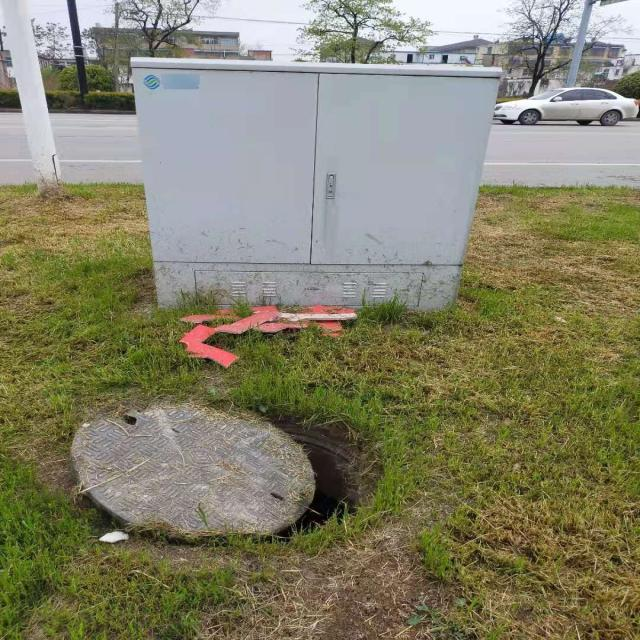Lose: (66, 400, 378, 538)
